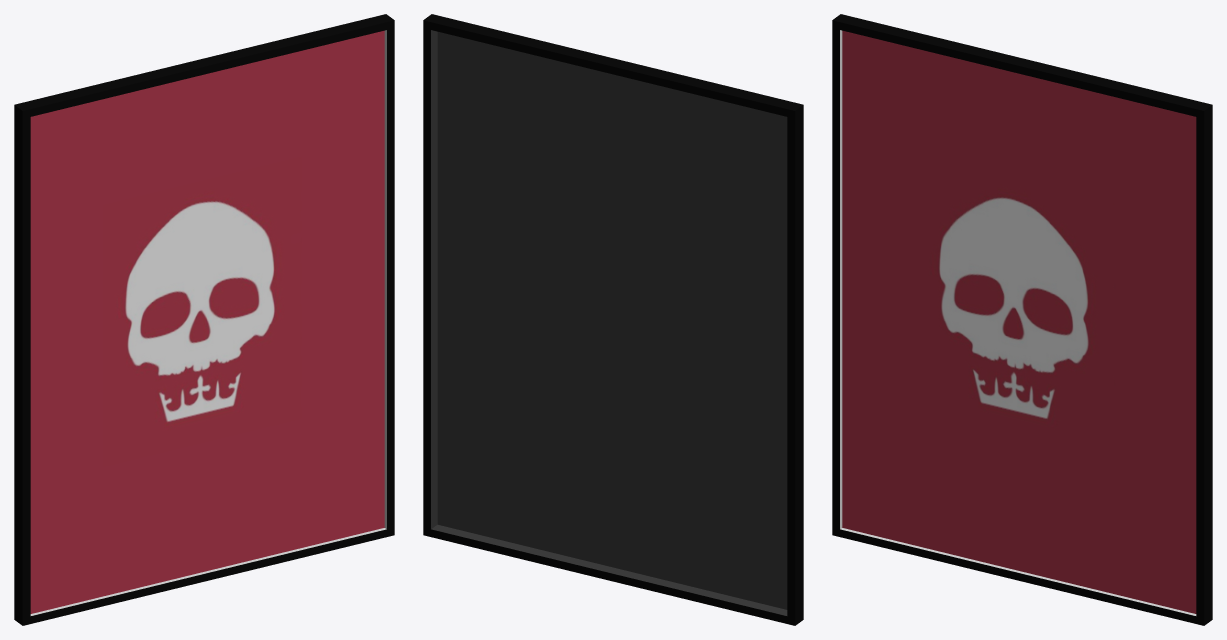
The model's file is macbeth-new.glb.
The picture shows the model from 3 angles, left to right: view 1: azimuth 30°, elevation 25°; view 2: azimuth 150°, elevation 25°; view 3: azimuth 330°, elevation 25°; orthographic projection.
Parts seen in each view (by area): view 1: Frame, Material2, Material3.001; view 2: Material3.003, Material2; view 3: Frame, Material2, Material3.001.
Boxes of the visible parts, left/top/right/bottom form: Frame: left=30, top=30, right=384, bottom=613; Material2: left=14, top=14, right=394, bottom=625; Material3.001: left=30, top=30, right=386, bottom=615; Material3.003: left=431, top=30, right=787, bottom=615; Material2: left=423, top=14, right=803, bottom=625; Frame: left=842, top=30, right=1196, bottom=613; Material2: left=832, top=14, right=1212, bottom=625; Material3.001: left=840, top=30, right=1196, bottom=615.
Size of what is drawn, in the model's own units: 24.95 by 33 by 1.
Materials: 4 (1 with a texture image).
